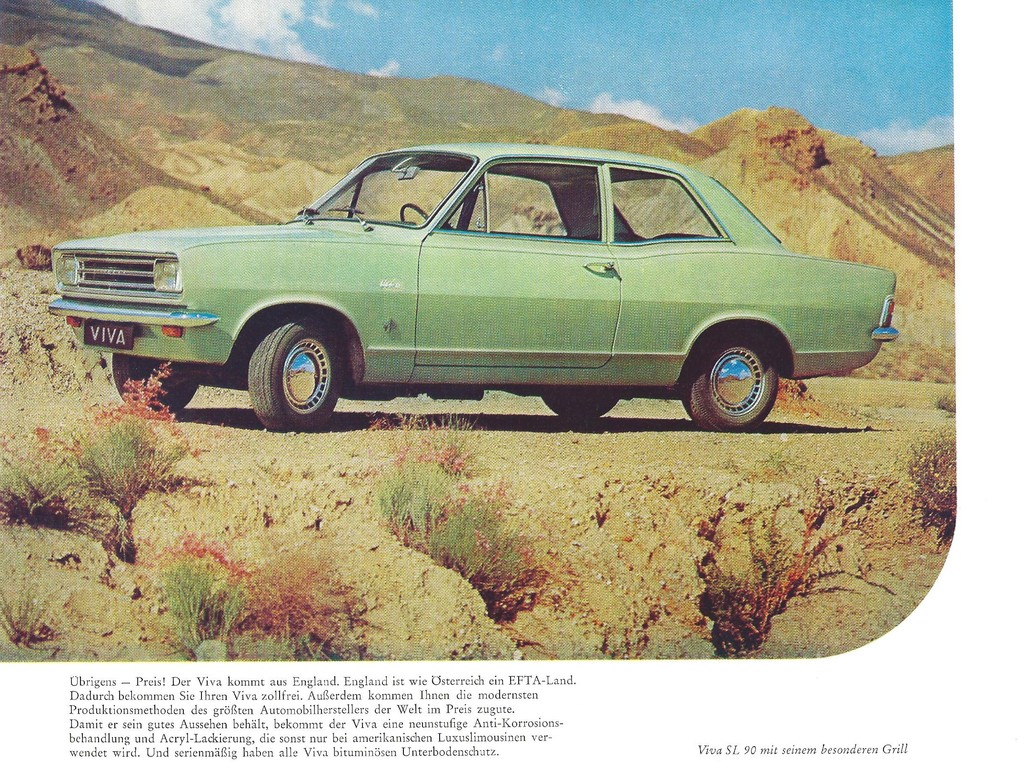mobil: (28, 132, 901, 465)
